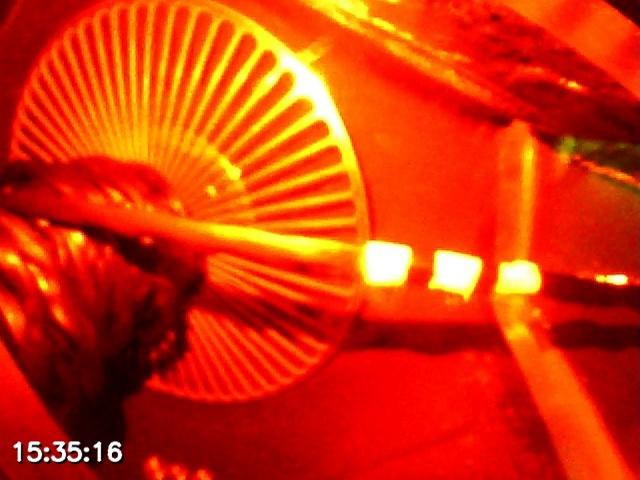white-dots: (360, 239, 542, 300)
